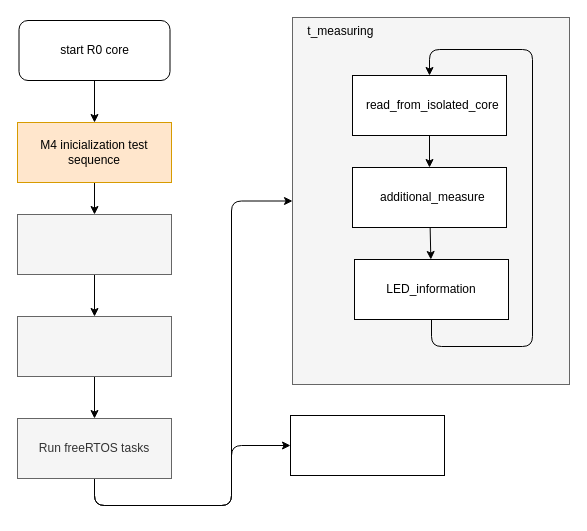
Image size: 587x531. Some labels were removed from this diagram. Each missing label, with the centre of its shape:
Config freeRTOS: pixel 94 244
Prepare common structures like buffers, ...: pixel 94 346
t_web_server: pixel 367 445
